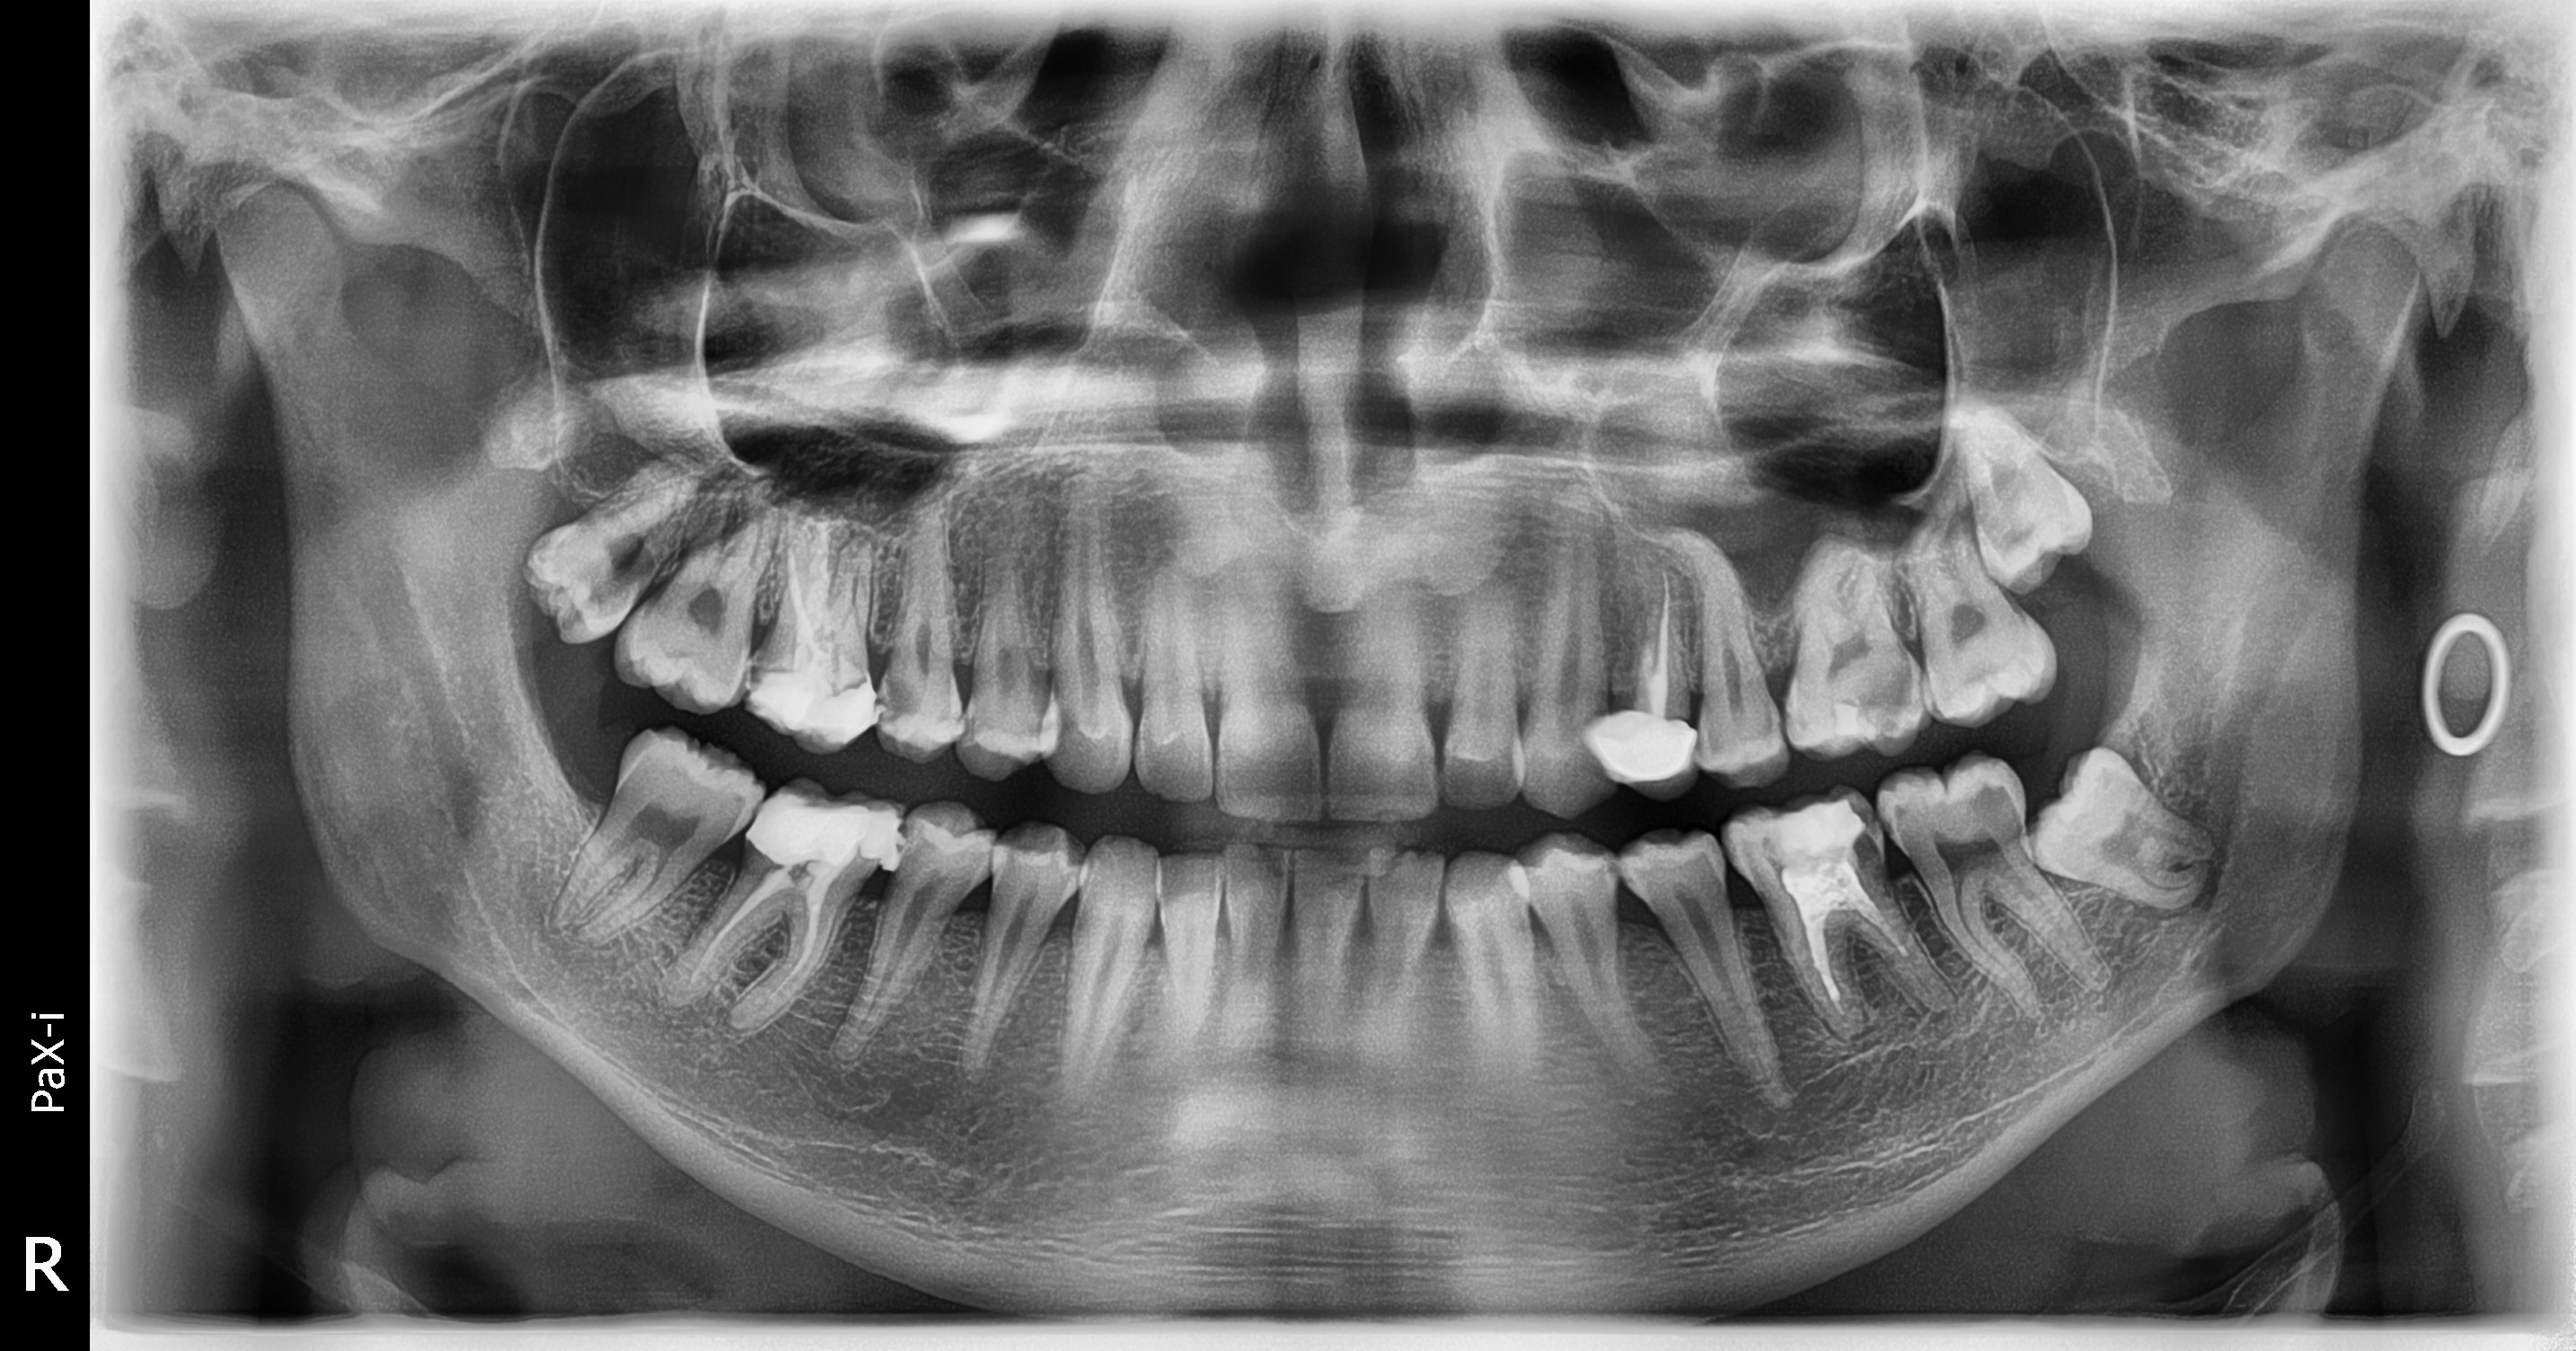CAR: (1833, 632, 1932, 756), (855, 649, 949, 756), (1828, 780, 1891, 855), (1866, 797, 1942, 845), (1590, 673, 1647, 734), (1564, 848, 1632, 900)
END: (1758, 850, 1927, 1034), (664, 860, 847, 1026), (765, 533, 888, 664), (1634, 554, 1688, 714)
IMT: (2022, 722, 2256, 932), (1952, 383, 2109, 600)
OBT: (727, 772, 913, 888), (738, 651, 877, 763), (1743, 796, 1864, 877)
PRR: (1567, 702, 1731, 813)
